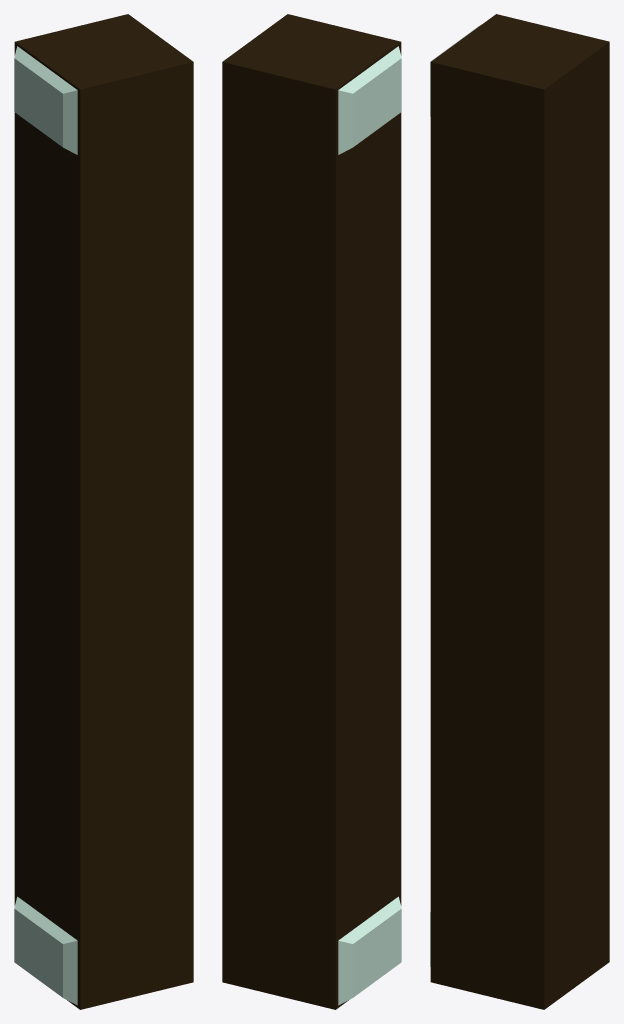
The model's file is banner-holder.glb.
The picture shows the model from 3 angles, left to right: view 1: azimuth 30°, elevation 25°; view 2: azimuth 150°, elevation 25°; view 3: azimuth 330°, elevation 25°; orthographic projection.
Parts seen in each view (by area): view 1: Cube003; view 2: Cube003; view 3: Cube003.
Part boxes in pixels (left/top/right/bottom): Cube003: left=14, top=14, right=193, bottom=1009; Cube003: left=222, top=14, right=401, bottom=1009; Cube003: left=430, top=14, right=609, bottom=1009.
Size of the model in its own units: 14.46 by 104 by 13.41.
Materials: 1 (1 with a texture image).
